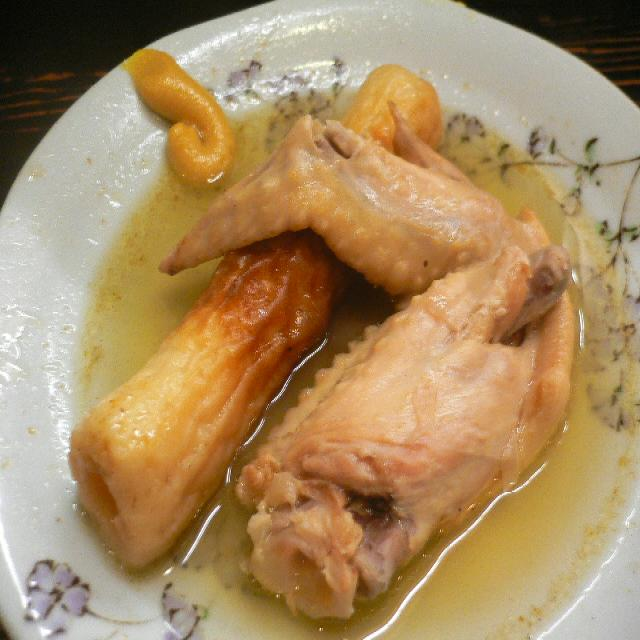汤锅炖物: (60, 59, 580, 621)
